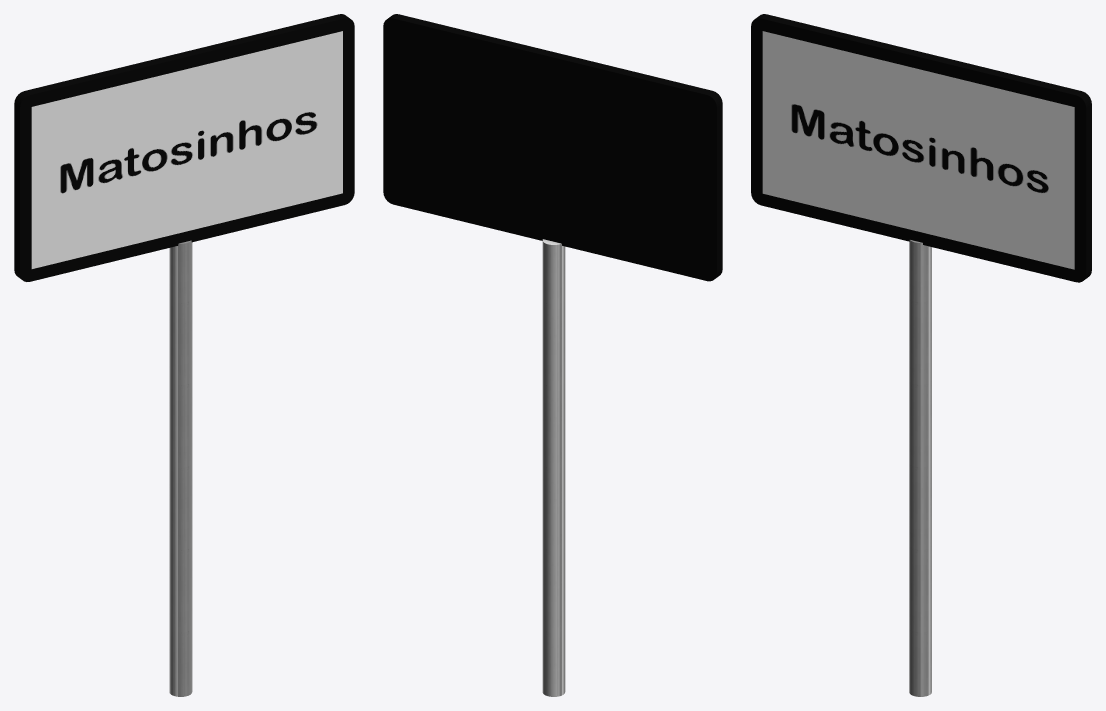
The model's file is Matosinhos.gltf.
3 renders of one model, left to right at view 1: azimuth 30°, elevation 25°; view 2: azimuth 150°, elevation 25°; view 3: azimuth 330°, elevation 25°, orthographic.
Visible parts, largest first — view 1: root; view 2: root; view 3: root.
Part boxes in pixels (left/top/right/bottom): root: left=14, top=14, right=354, bottom=696; root: left=383, top=14, right=722, bottom=696; root: left=751, top=14, right=1091, bottom=696.
Bounding box in the file's own units: 0.4318 × 0.7865 × 0.0254.
4 materials, 2 textured.
